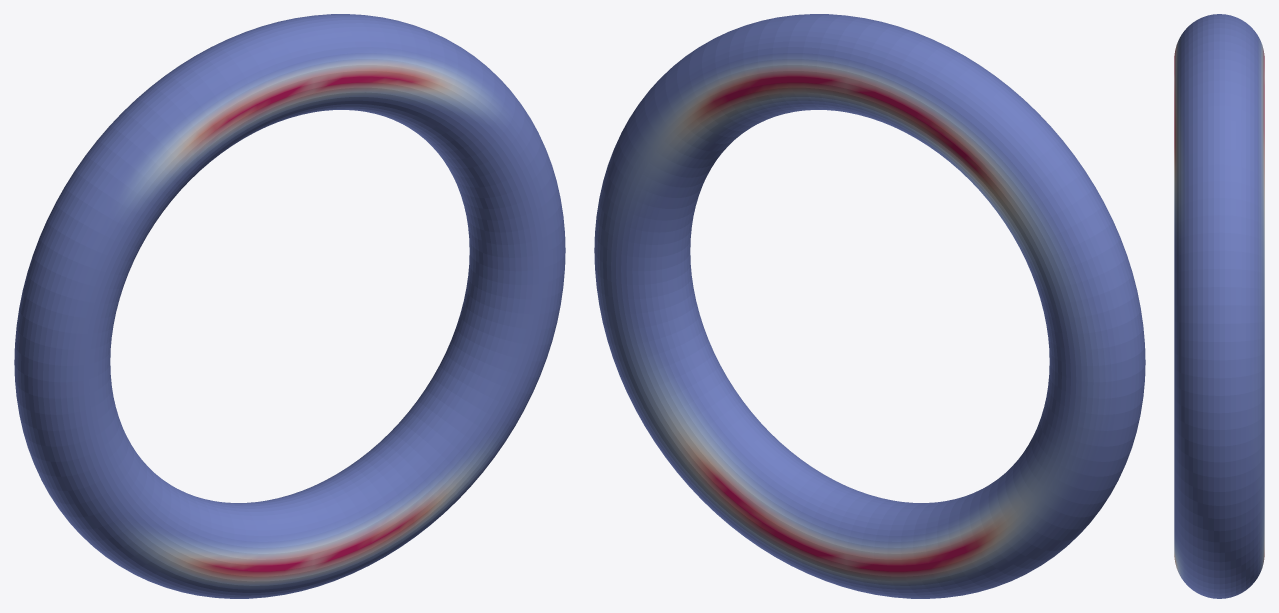
The picture shows the model from 3 angles, left to right: view 1: azimuth 30°, elevation 25°; view 2: azimuth 150°, elevation 25°; view 3: azimuth 270°, elevation 25°; orthographic projection. The views are drawn at different scales.
Visible parts, largest first — view 1: world; view 2: world; view 3: world.
Boxes of the visible parts, left/top/right/bottom form: world: left=14, top=14, right=565, bottom=598; world: left=594, top=14, right=1145, bottom=598; world: left=1174, top=14, right=1264, bottom=598.
Size of the model in its own units: 18.13 by 18.13 by 2.79.
